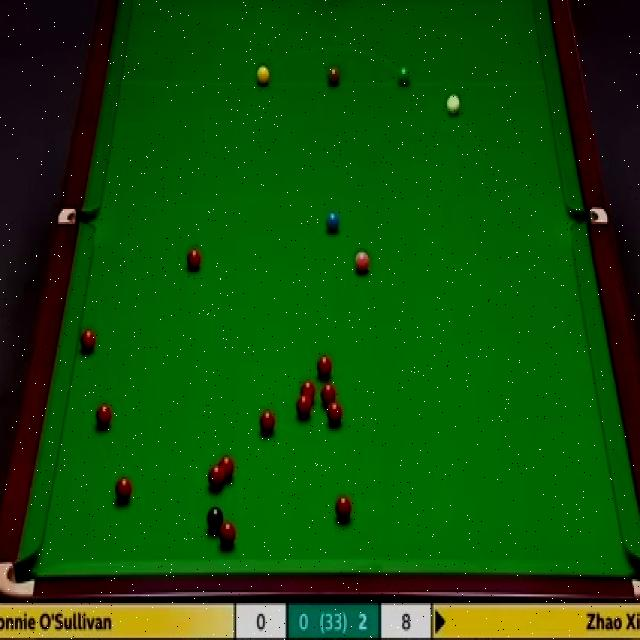black-ball: (206, 506, 226, 530)
blue-ball: (325, 209, 340, 236)
brown-ball: (326, 65, 341, 86)
green-ball: (396, 66, 410, 86)
pink-ball: (354, 252, 371, 276)
red-ball: (333, 492, 353, 524), (78, 328, 98, 356), (111, 475, 131, 503), (258, 407, 276, 437), (93, 400, 111, 429), (314, 354, 334, 378), (299, 378, 317, 404), (208, 463, 226, 489), (220, 456, 238, 480), (220, 522, 236, 549), (295, 395, 313, 419), (323, 386, 340, 411), (327, 401, 342, 423), (186, 250, 202, 270)
white-ball: (446, 94, 460, 116)
yellow-ball: (256, 65, 270, 86)
